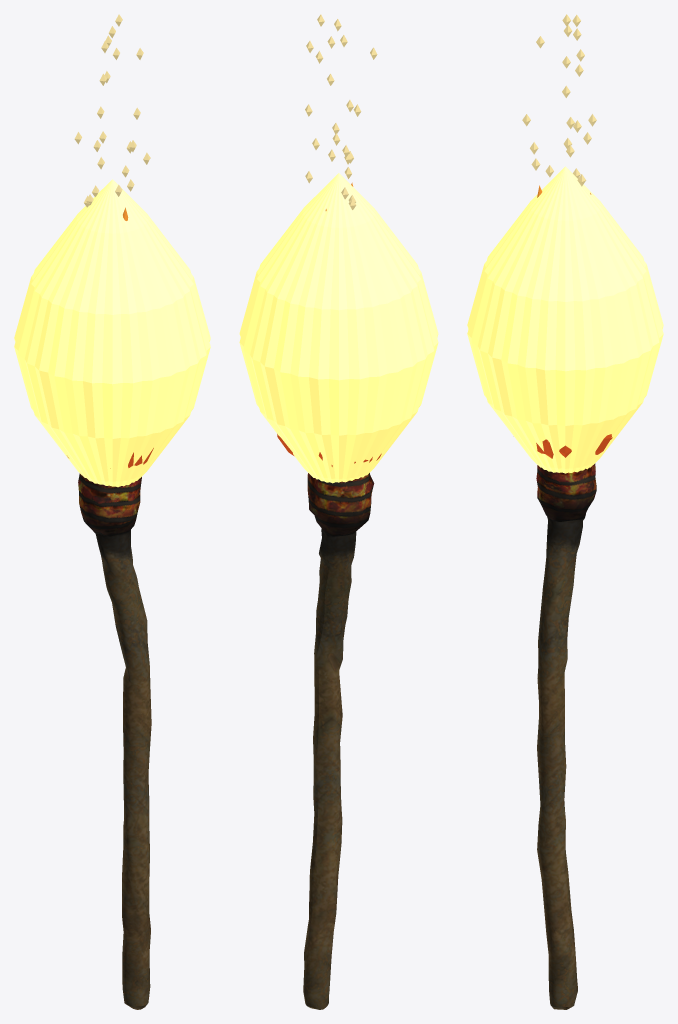
File: pochoden.glb
The picture shows the model from 3 angles, left to right: view 1: azimuth 30°, elevation 25°; view 2: azimuth 150°, elevation 25°; view 3: azimuth 270°, elevation 25°; orthographic projection.
Parts seen in each view (by area): view 1: pochoden, plamen_01, plamen_00, plamen_02, plamen_05, plamen_03, plamen_04; view 2: pochoden, plamen_00, plamen_01, plamen_02, plamen_03, plamen_04, plamen_05; view 3: pochoden, plamen_00, plamen_01, plamen_02, plamen_04, plamen_05, plamen_03.
Part boxes in pixels (left/top/right/bottom): pochoden: left=78, top=473, right=151, bottom=1009; plamen_01: left=18, top=107, right=206, bottom=486; plamen_00: left=14, top=35, right=210, bottom=487; plamen_02: left=14, top=14, right=210, bottom=486; plamen_05: left=44, top=132, right=180, bottom=480; plamen_03: left=45, top=26, right=185, bottom=482; plamen_04: left=18, top=41, right=189, bottom=484; pochoden: left=303, top=473, right=374, bottom=1009; plamen_00: left=239, top=36, right=438, bottom=483; plamen_01: left=239, top=104, right=438, bottom=482; plamen_02: left=243, top=14, right=434, bottom=482; plamen_03: left=270, top=19, right=407, bottom=481; plamen_04: left=269, top=35, right=412, bottom=481; plamen_05: left=245, top=145, right=417, bottom=481; pochoden: left=536, top=463, right=596, bottom=1009; plamen_00: left=471, top=28, right=659, bottom=473; plamen_01: left=467, top=117, right=663, bottom=472; plamen_02: left=467, top=14, right=663, bottom=472; plamen_04: left=497, top=25, right=635, bottom=472; plamen_05: left=497, top=114, right=638, bottom=471; plamen_03: left=473, top=14, right=657, bottom=472.
Size of the model in its own units: 0.2 by 1.1 by 0.1989.
Materials: 3 (2 with a texture image).
